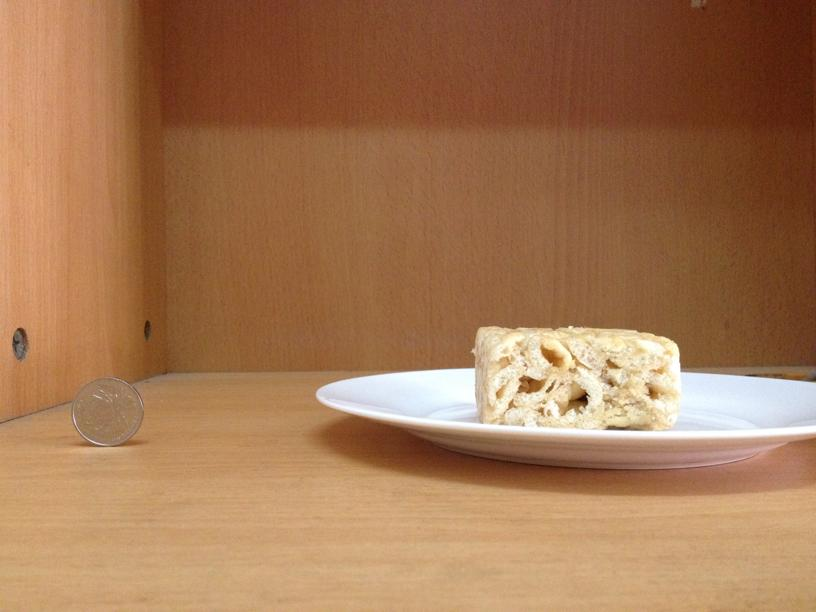coin: (71, 376, 144, 447)
sachima: (462, 322, 683, 433)
